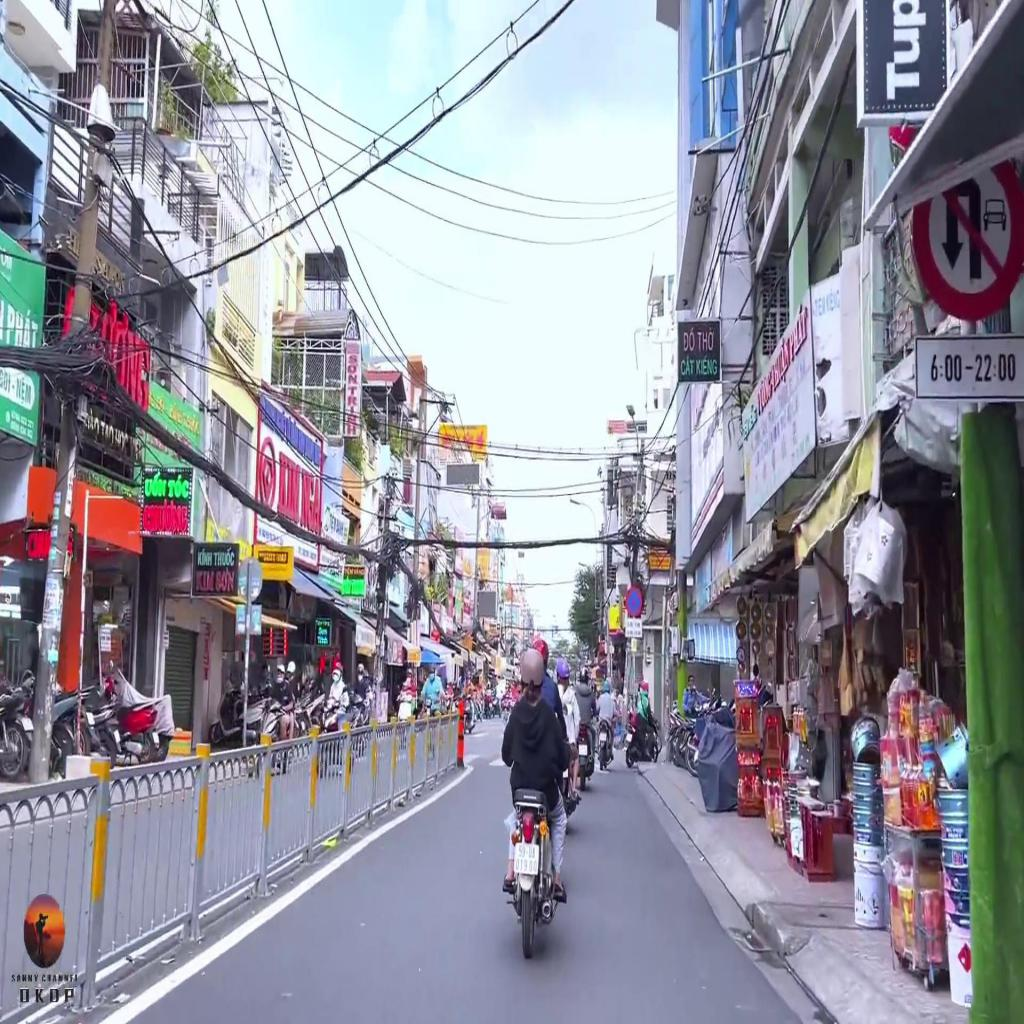cam_dung_xe_va_do_xe: (626, 586, 642, 618)
cam_o_to_quay_dau_xe: (911, 154, 1023, 316)
khac: (912, 336, 1024, 399), (625, 618, 643, 637)
